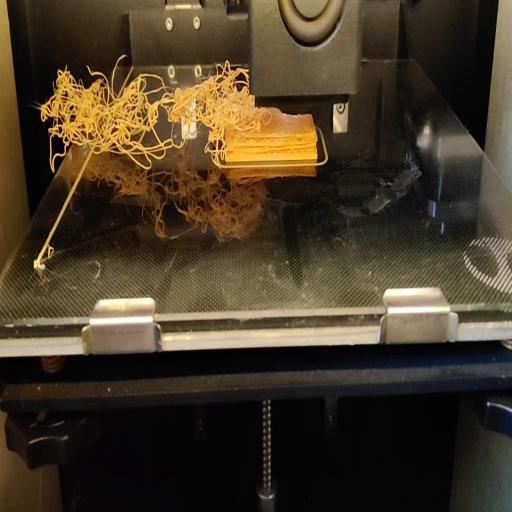spaghetti: (39, 52, 168, 172), (168, 56, 248, 157)
